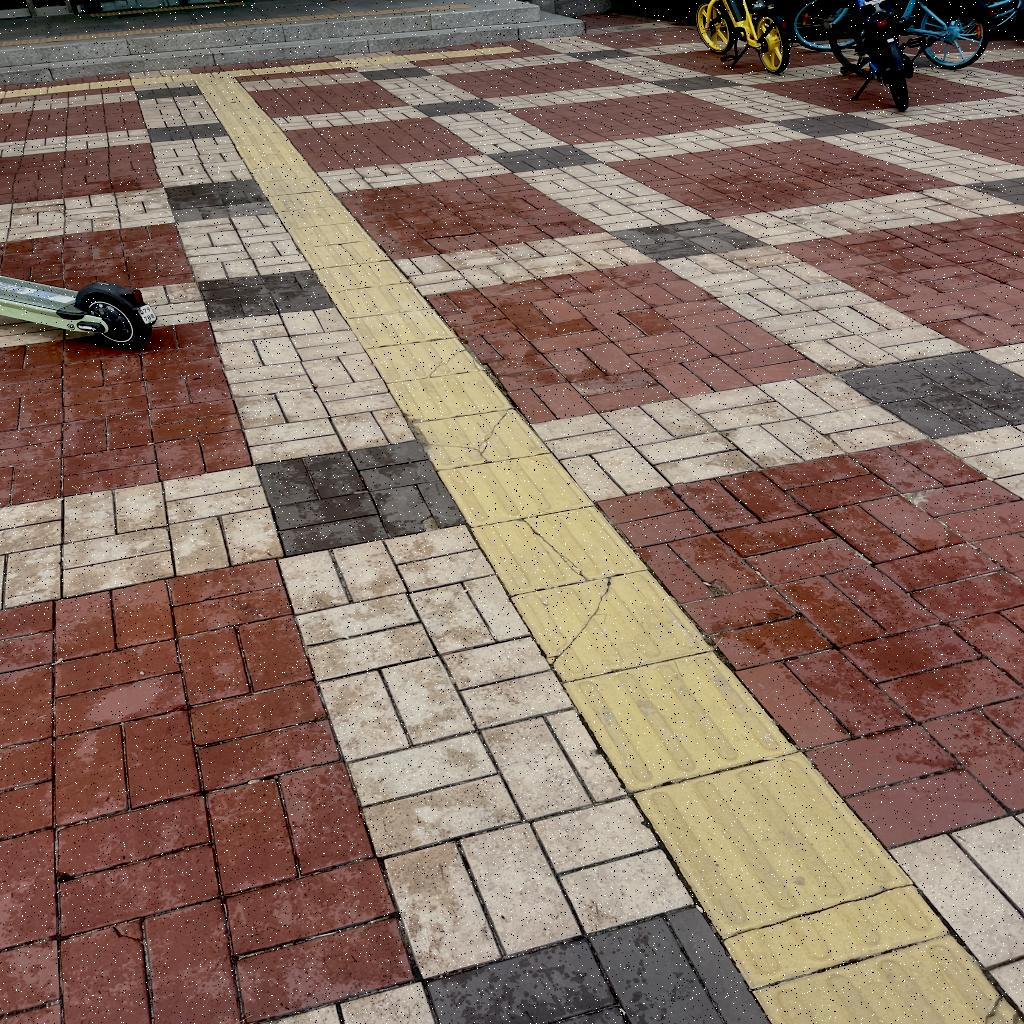Straight block broken: (511, 557, 713, 689), (471, 498, 647, 599), (412, 403, 549, 473), (366, 335, 483, 385)
Straight block normal: (565, 633, 795, 800), (440, 448, 591, 529), (387, 365, 513, 426), (348, 306, 454, 350), (328, 279, 430, 321)
